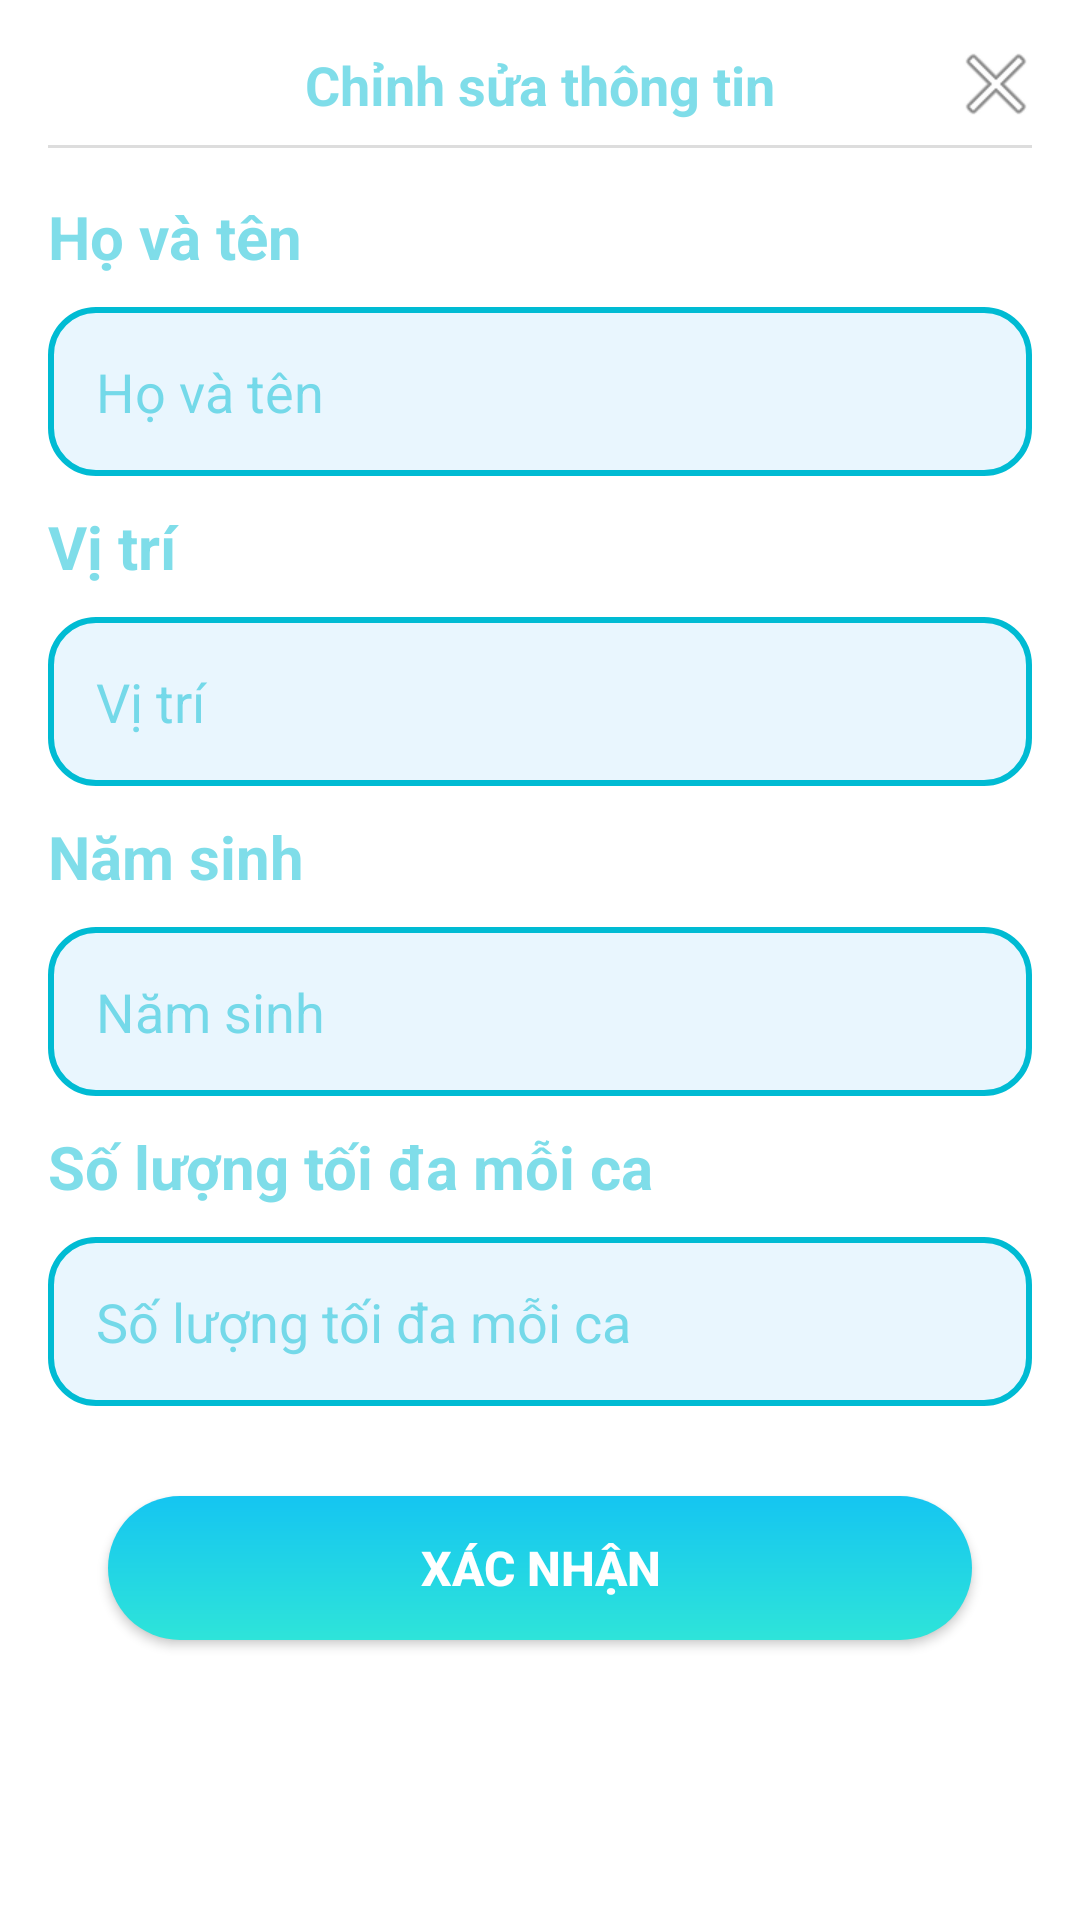

Icons on this 1080px×1920px Android screen, each with its box as box(x1, y1, x2, y2):
close clear cancel: box(966, 54, 1026, 114)
